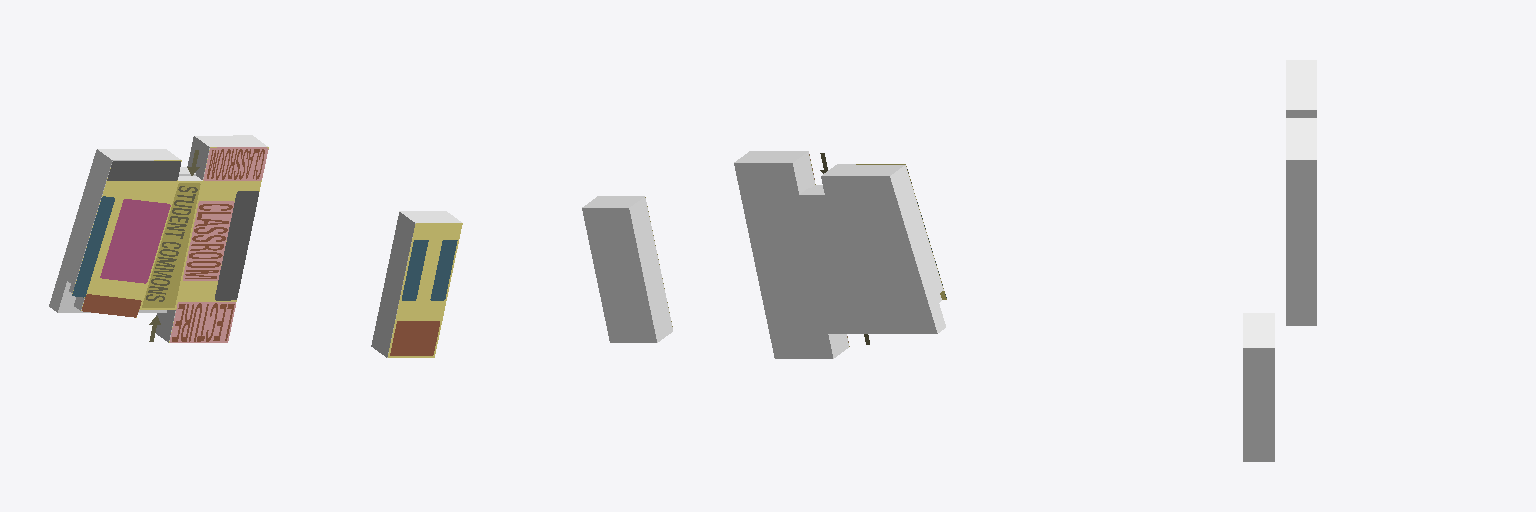
The model's file is SiteW-4.obj.
3 renders of one model, left to right at view 1: azimuth 30°, elevation 25°; view 2: azimuth 150°, elevation 25°; view 3: azimuth 270°, elevation 25°, orthographic.
Bounding box in the file's own units: 386 × 250 × 66.45.